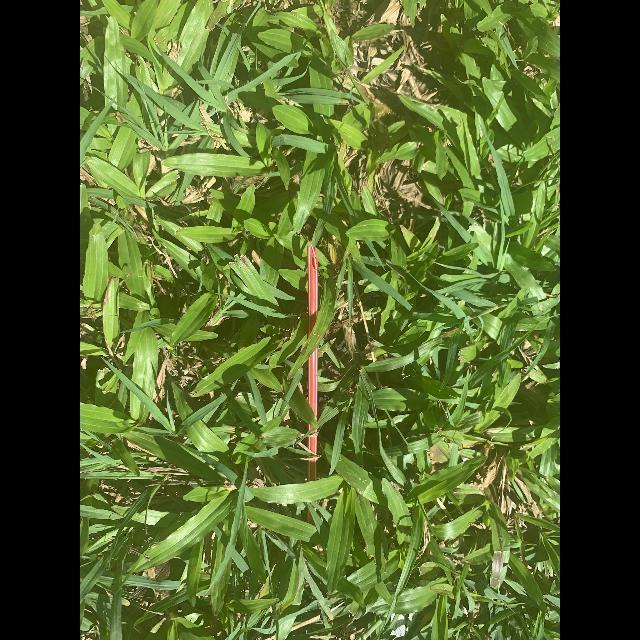Plastic: (306, 245, 318, 525)
